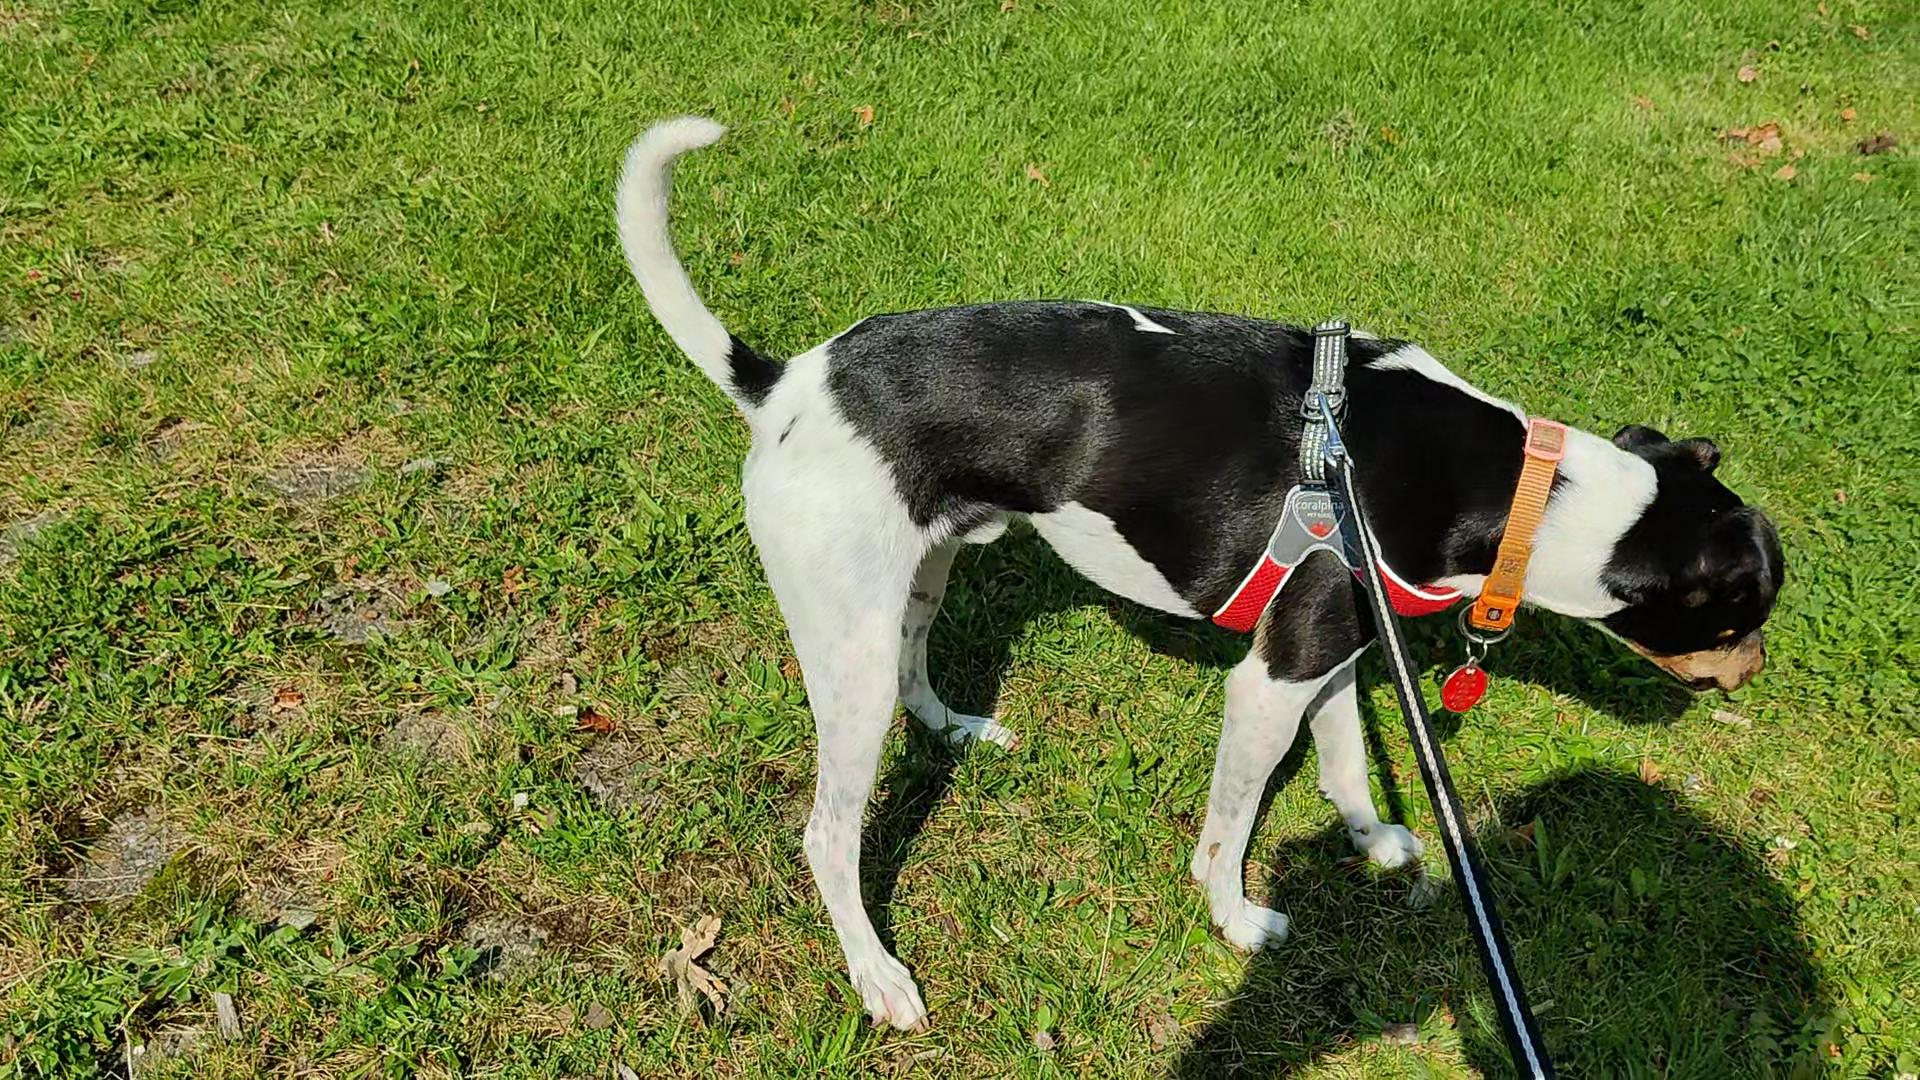Dog: (607, 108, 1797, 1031)
